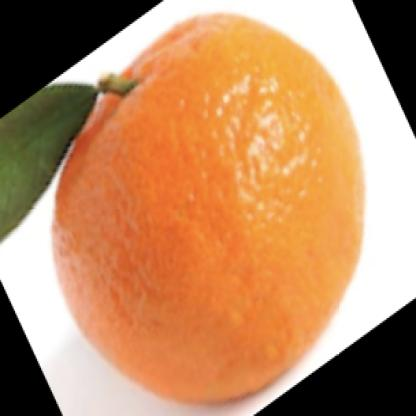fresh: (55, 8, 365, 403)
